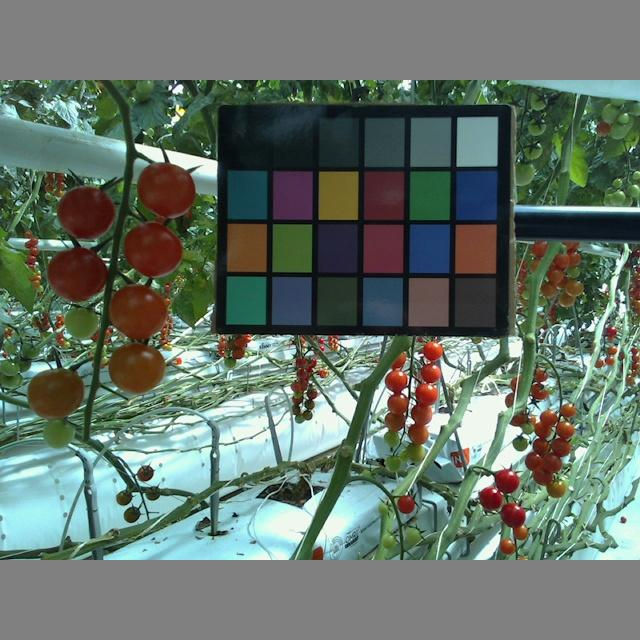green: (65, 309, 100, 340), (43, 417, 76, 449), (402, 443, 425, 464), (548, 475, 567, 499), (381, 430, 401, 447), (386, 454, 403, 473)
pink: (108, 283, 170, 340), (55, 185, 115, 241), (123, 223, 183, 278), (45, 251, 107, 302), (137, 162, 195, 216), (108, 343, 164, 395), (25, 368, 83, 417), (385, 369, 410, 395), (409, 402, 433, 426), (415, 384, 439, 407), (387, 392, 410, 416), (421, 340, 444, 362), (420, 363, 443, 384), (406, 426, 429, 447), (550, 436, 571, 458), (530, 437, 552, 457), (539, 453, 561, 473), (533, 463, 553, 485), (385, 413, 408, 431), (540, 408, 559, 429), (557, 419, 575, 439), (535, 421, 553, 439), (560, 403, 576, 419)
red: (494, 468, 521, 495), (500, 501, 525, 527), (477, 487, 504, 511), (397, 492, 415, 515)
